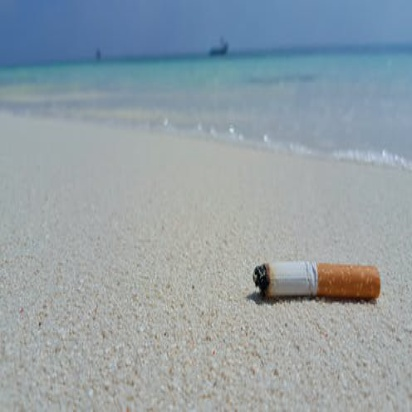cigarette: (241, 253, 390, 309)
